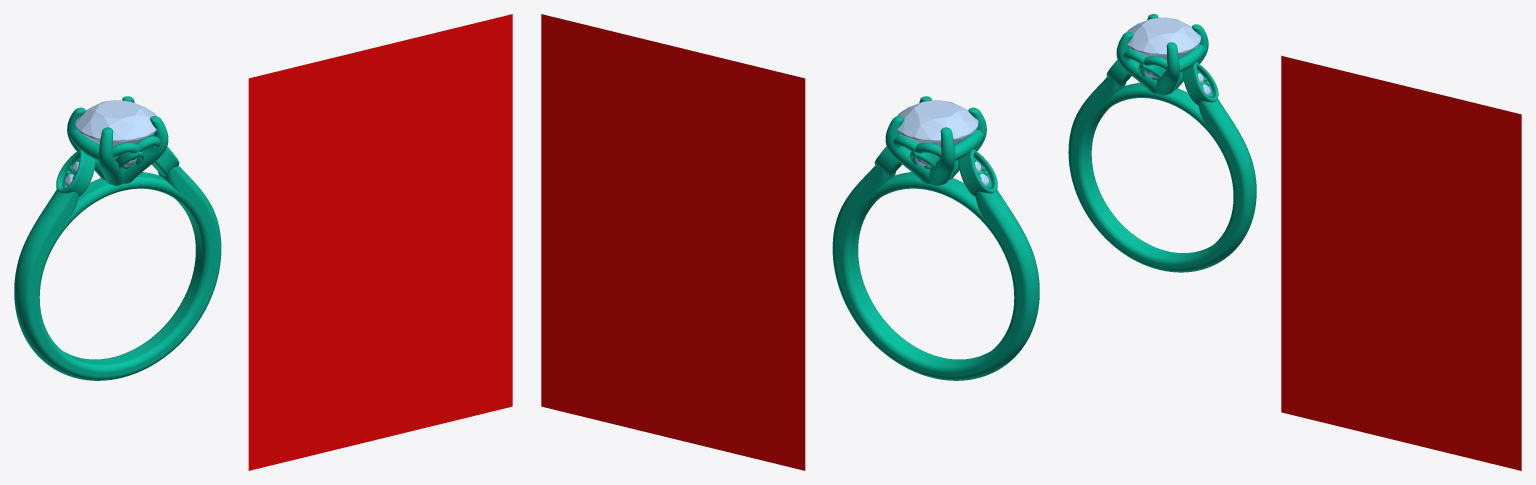
3 renders of one model, left to right at view 1: azimuth 30°, elevation 25°; view 2: azimuth 150°, elevation 25°; view 3: azimuth 330°, elevation 25°, orthographic. The views are drawn at different scales.
Parts seen in each view (by area): view 1: 8311.HAROON(front).3dm, Diamond_Round; view 2: 8311.HAROON(front).3dm, Diamond_Round; view 3: 8311.HAROON(front).3dm, Diamond_Round.
Part boxes in pixels (left/top/right/bottom): 8311.HAROON(front).3dm: left=14, top=14, right=512, bottom=470; Diamond_Round: left=75, top=100, right=157, bottom=156; 8311.HAROON(front).3dm: left=541, top=14, right=1039, bottom=470; Diamond_Round: left=896, top=100, right=978, bottom=156; 8311.HAROON(front).3dm: left=1068, top=14, right=1521, bottom=470; Diamond_Round: left=1127, top=17, right=1200, bottom=68.
Size of what is drawn, in the model's own units: 5.93 by 4.49 by 0.8958.
